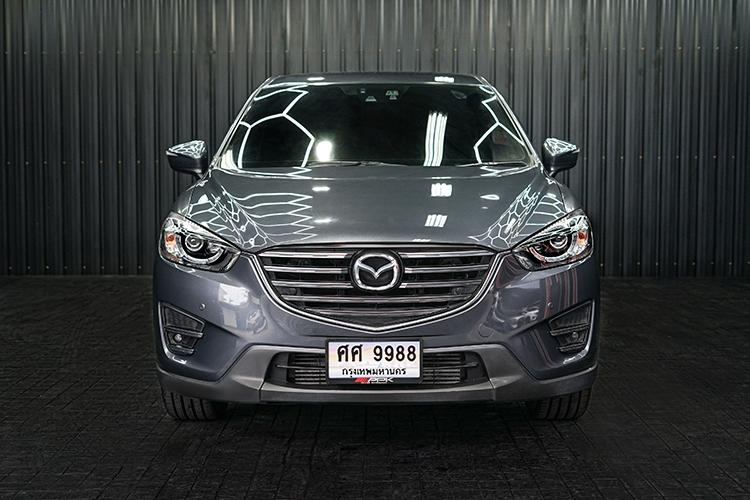license-plate: (325, 336, 423, 387)
